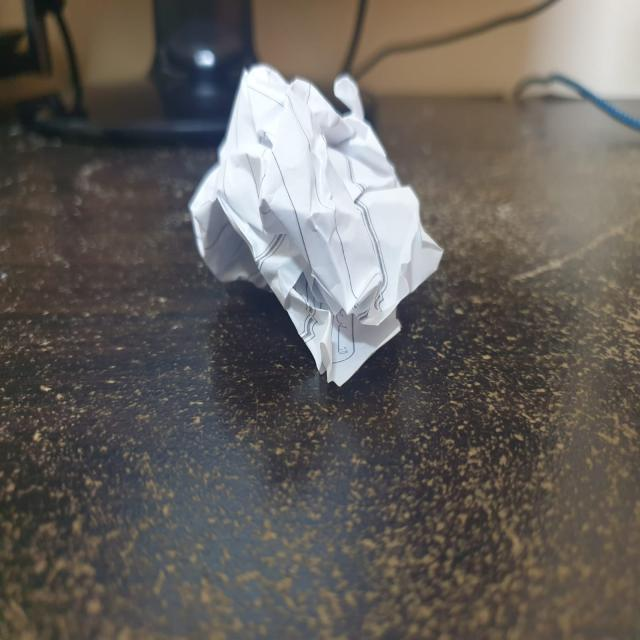Paper: (188, 65, 442, 389)
